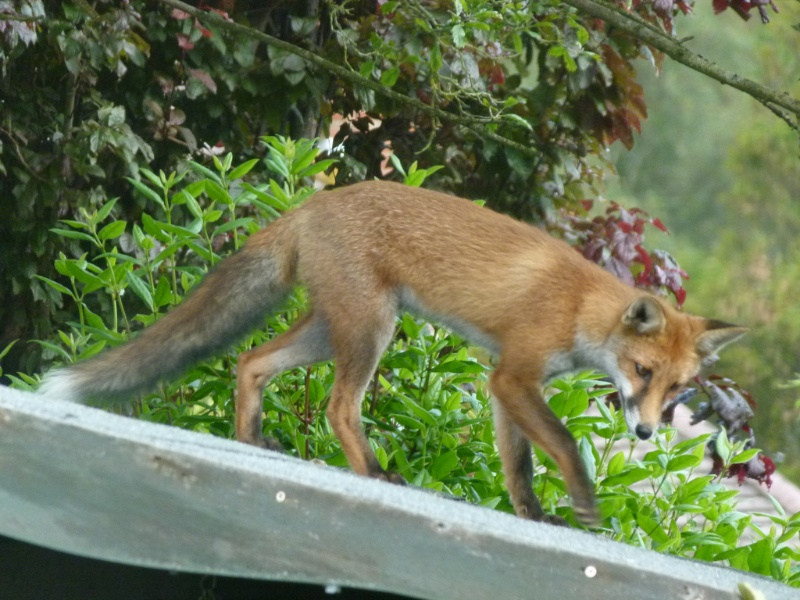fox: (34, 166, 750, 541)
